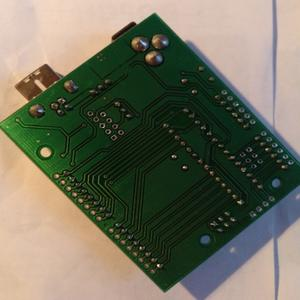duino: (2, 0, 298, 290)
